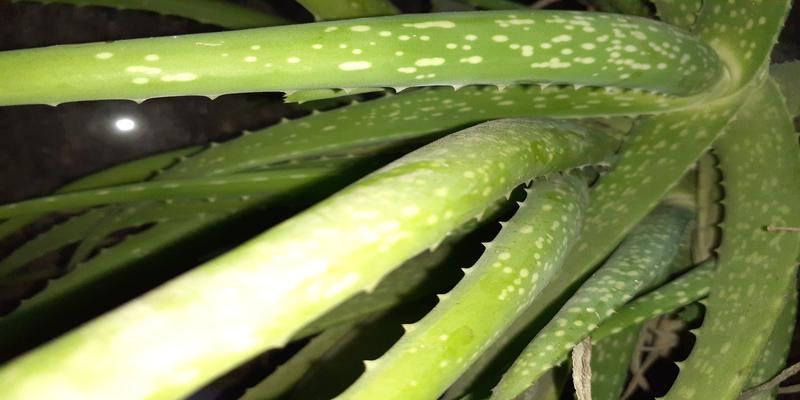Aloevera: (194, 16, 800, 374)
